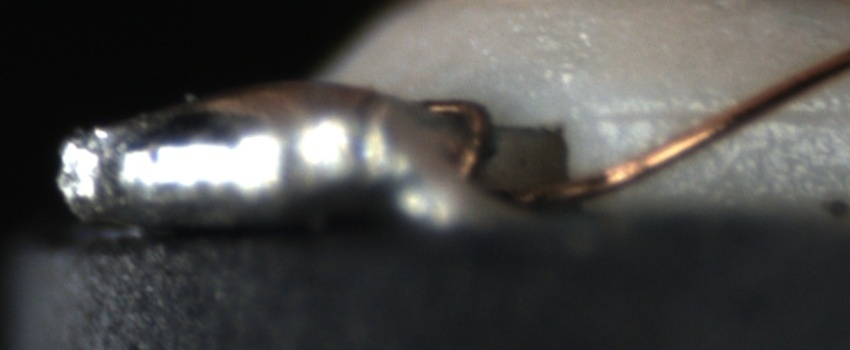DL: (605, 82, 849, 143)
TE: (421, 88, 499, 199)
